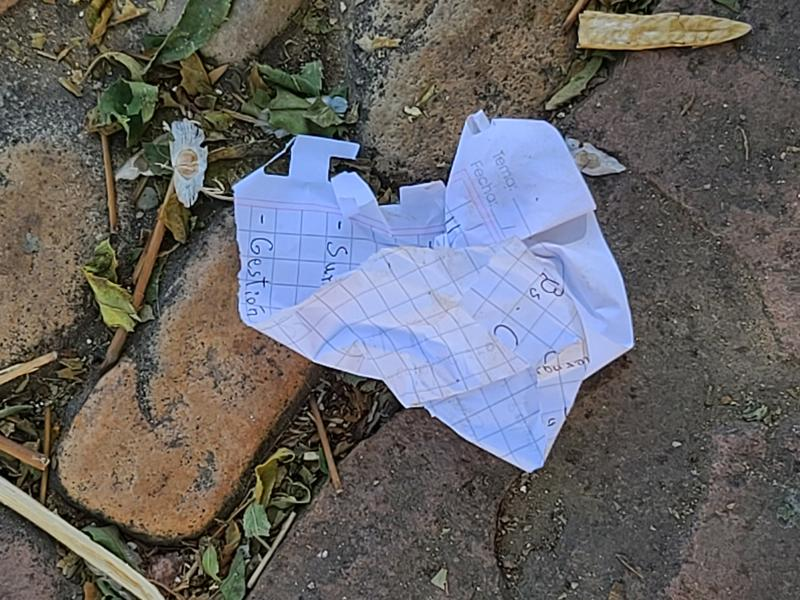papel: (231, 112, 635, 475)
